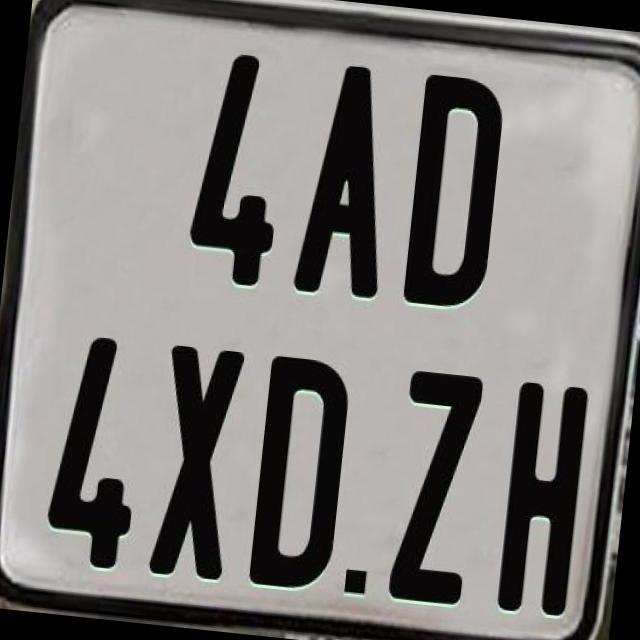4: (39, 329, 152, 576), (185, 49, 292, 286)
A: (292, 57, 403, 300)
D: (402, 74, 514, 314), (244, 352, 352, 590)
H: (494, 380, 590, 614)
X: (144, 343, 248, 585)
Z: (384, 368, 486, 606)
